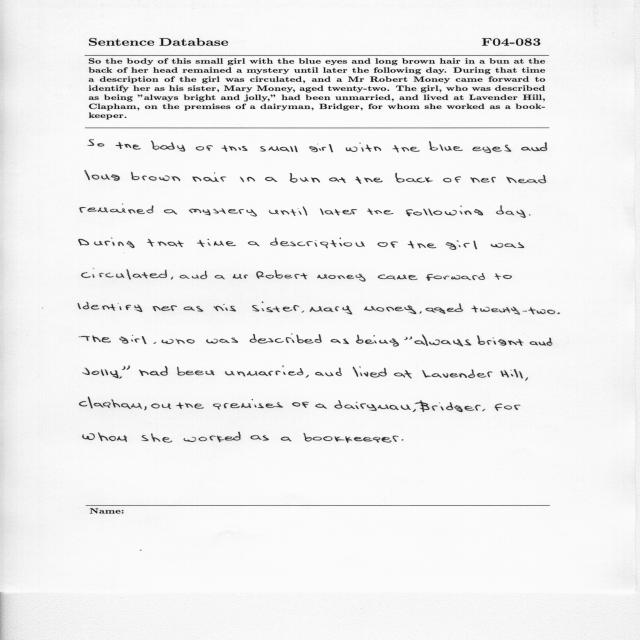word: (225, 366, 309, 378), (303, 433, 399, 443), (270, 238, 365, 248), (82, 269, 167, 280), (413, 400, 485, 412), (409, 334, 471, 347), (406, 206, 483, 216), (213, 399, 283, 410), (471, 306, 555, 315), (79, 397, 142, 409), (80, 204, 154, 214), (250, 334, 322, 344), (334, 400, 399, 411), (78, 302, 142, 312), (422, 370, 493, 379), (184, 432, 241, 442), (79, 238, 135, 248), (189, 209, 257, 217), (477, 335, 524, 346), (356, 335, 399, 347), (426, 273, 485, 281), (252, 302, 299, 312), (256, 270, 308, 279), (364, 306, 416, 315), (131, 172, 180, 181), (83, 432, 127, 442), (83, 368, 122, 379), (353, 366, 387, 378), (426, 303, 463, 314), (317, 274, 366, 282), (496, 205, 526, 218), (85, 170, 120, 181), (395, 173, 433, 183), (269, 206, 307, 216), (310, 306, 352, 315), (151, 141, 185, 152), (346, 142, 381, 152), (429, 141, 463, 151), (192, 172, 226, 182), (177, 367, 214, 376), (507, 175, 547, 183), (473, 145, 512, 153), (197, 239, 236, 247), (446, 240, 477, 250), (290, 173, 320, 183), (147, 239, 184, 247), (139, 366, 168, 376), (142, 434, 172, 443), (320, 209, 357, 216), (120, 335, 147, 344), (522, 142, 548, 151), (260, 146, 298, 152), (355, 176, 383, 184), (408, 241, 436, 249), (79, 336, 111, 343), (207, 337, 239, 344), (180, 271, 207, 279), (116, 142, 141, 150), (378, 275, 418, 280), (491, 242, 524, 248), (530, 337, 552, 346), (392, 145, 420, 152), (176, 402, 204, 409), (309, 144, 333, 152), (221, 145, 248, 152), (367, 208, 394, 215), (162, 339, 195, 344), (394, 370, 412, 379), (500, 369, 518, 378), (213, 304, 236, 311), (470, 177, 496, 183), (325, 368, 342, 377), (152, 306, 177, 312), (377, 241, 398, 248), (443, 176, 461, 183), (151, 403, 171, 409), (495, 273, 512, 280), (184, 306, 203, 312), (88, 140, 104, 147), (331, 339, 349, 345), (196, 145, 213, 151), (329, 177, 346, 183), (292, 402, 309, 408), (250, 435, 269, 440), (519, 371, 528, 381), (504, 405, 520, 410), (240, 177, 255, 182), (233, 274, 248, 279), (164, 210, 177, 215), (265, 177, 277, 182), (315, 404, 327, 409), (401, 404, 411, 410), (495, 403, 502, 411), (248, 241, 259, 246), (215, 275, 225, 279), (281, 437, 291, 441), (315, 372, 324, 376), (126, 366, 130, 370), (404, 337, 408, 340), (122, 366, 125, 370), (144, 407, 147, 411), (419, 311, 422, 314), (171, 276, 173, 280), (557, 313, 560, 315), (154, 342, 157, 344), (302, 311, 304, 313), (402, 439, 404, 441), (530, 214, 531, 216)
